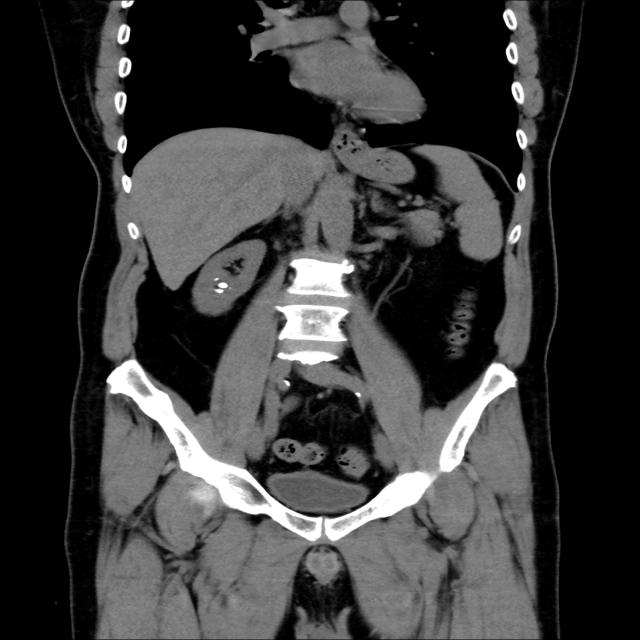kidneystone: (214, 282, 229, 294)
